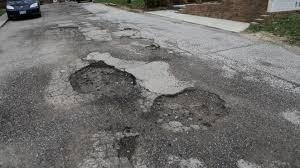alligator-crack: (38, 67, 68, 114), (78, 129, 110, 168)
pothole: (144, 75, 239, 139), (71, 51, 139, 101), (103, 26, 156, 51), (106, 126, 140, 163), (50, 23, 84, 38)
